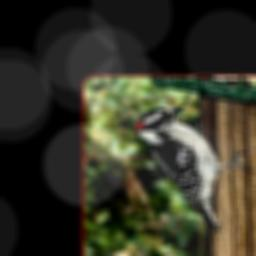Woodpecker: (134, 103, 254, 230)
